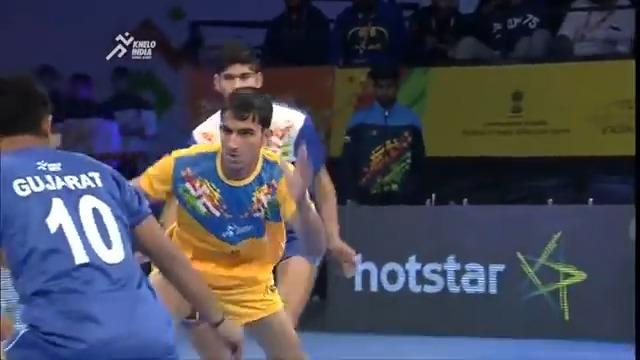Player: (0, 73, 243, 358)
Raider: (130, 88, 327, 357)
